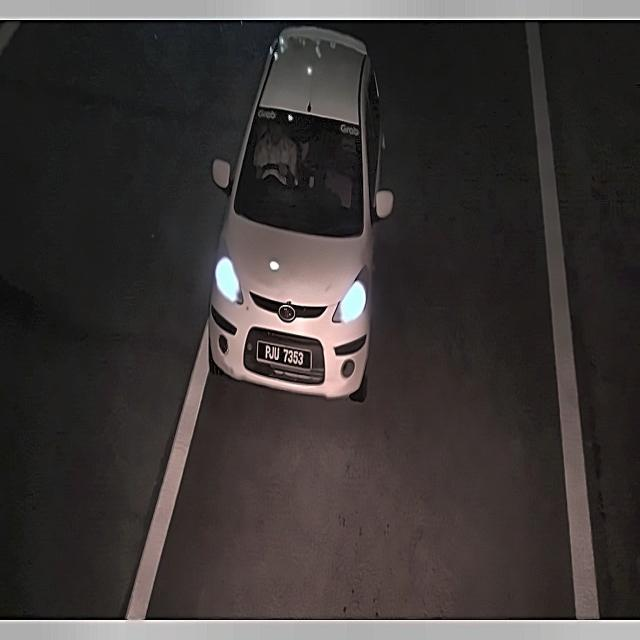car: (252, 334, 313, 381)
